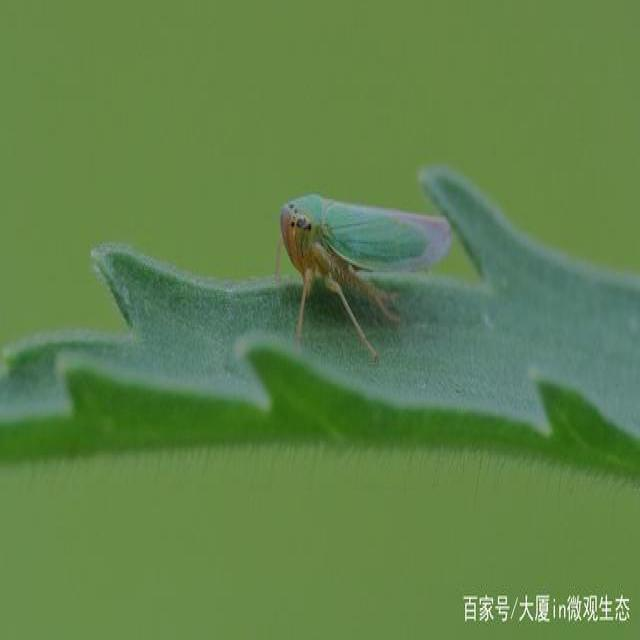Yechan: (274, 184, 464, 326)
